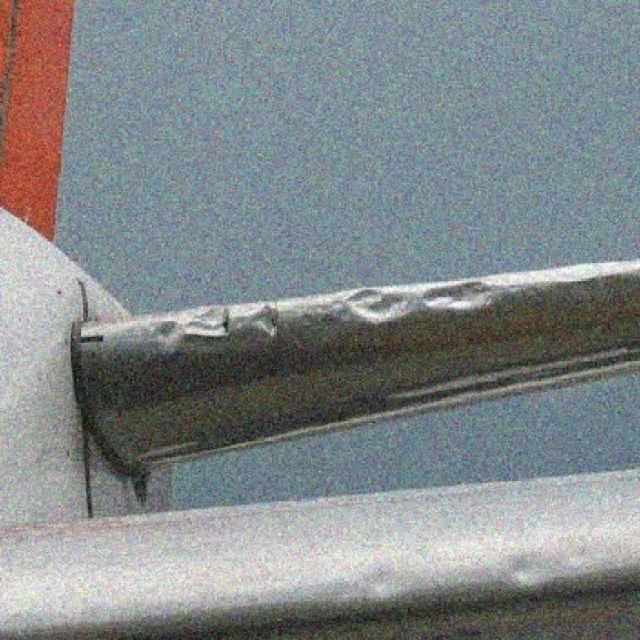dent: (343, 283, 417, 325), (422, 277, 496, 317), (190, 303, 233, 348), (148, 314, 188, 356), (506, 551, 537, 587), (249, 302, 277, 333)
